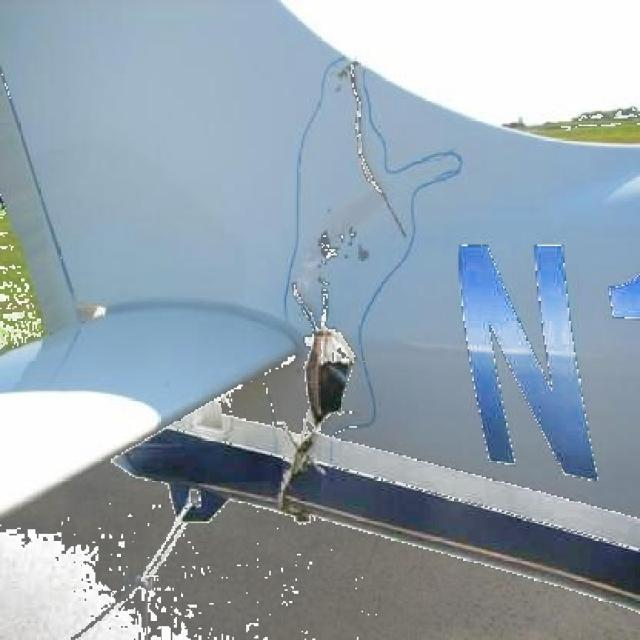crack: (341, 79, 401, 235)
